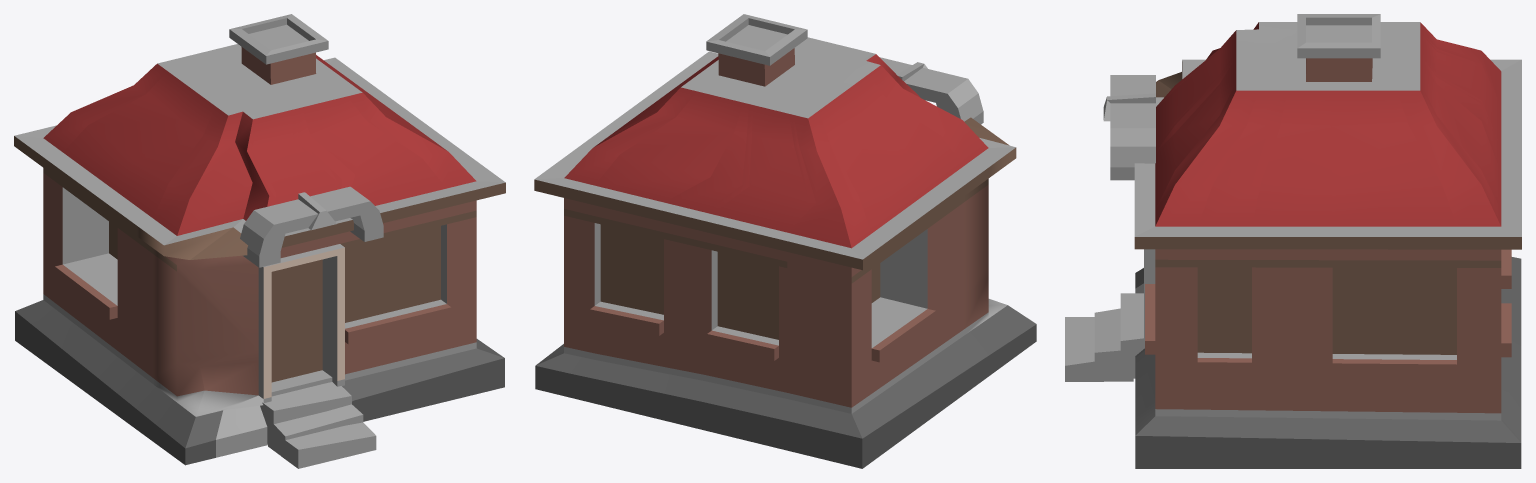
Rendered from Building_4.fbx.
3 views of the same model, side by side, from view 1: azimuth 30°, elevation 25°; view 2: azimuth 150°, elevation 25°; view 3: azimuth 270°, elevation 25° (orthographic). The views are drawn at different scales.
Visible parts, largest first — view 1: Building_4; view 2: Building_4; view 3: Building_4.
Boxes of the visible parts, <box> form: Building_4: <box>14,14,505,468</box>; Building_4: <box>534,14,1036,468</box>; Building_4: <box>1065,14,1521,468</box>.
Size of the model in its own units: 47.63 by 45.61 by 51.8.
